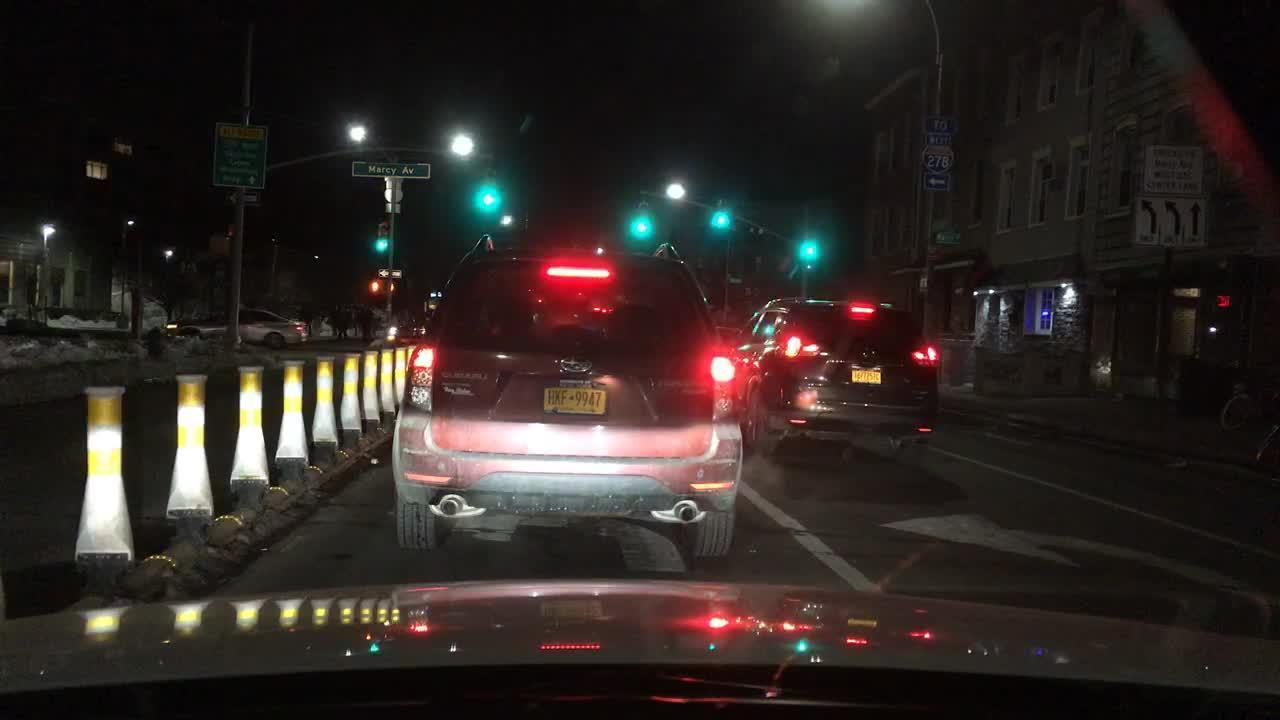subaru: (553, 353, 602, 379)
